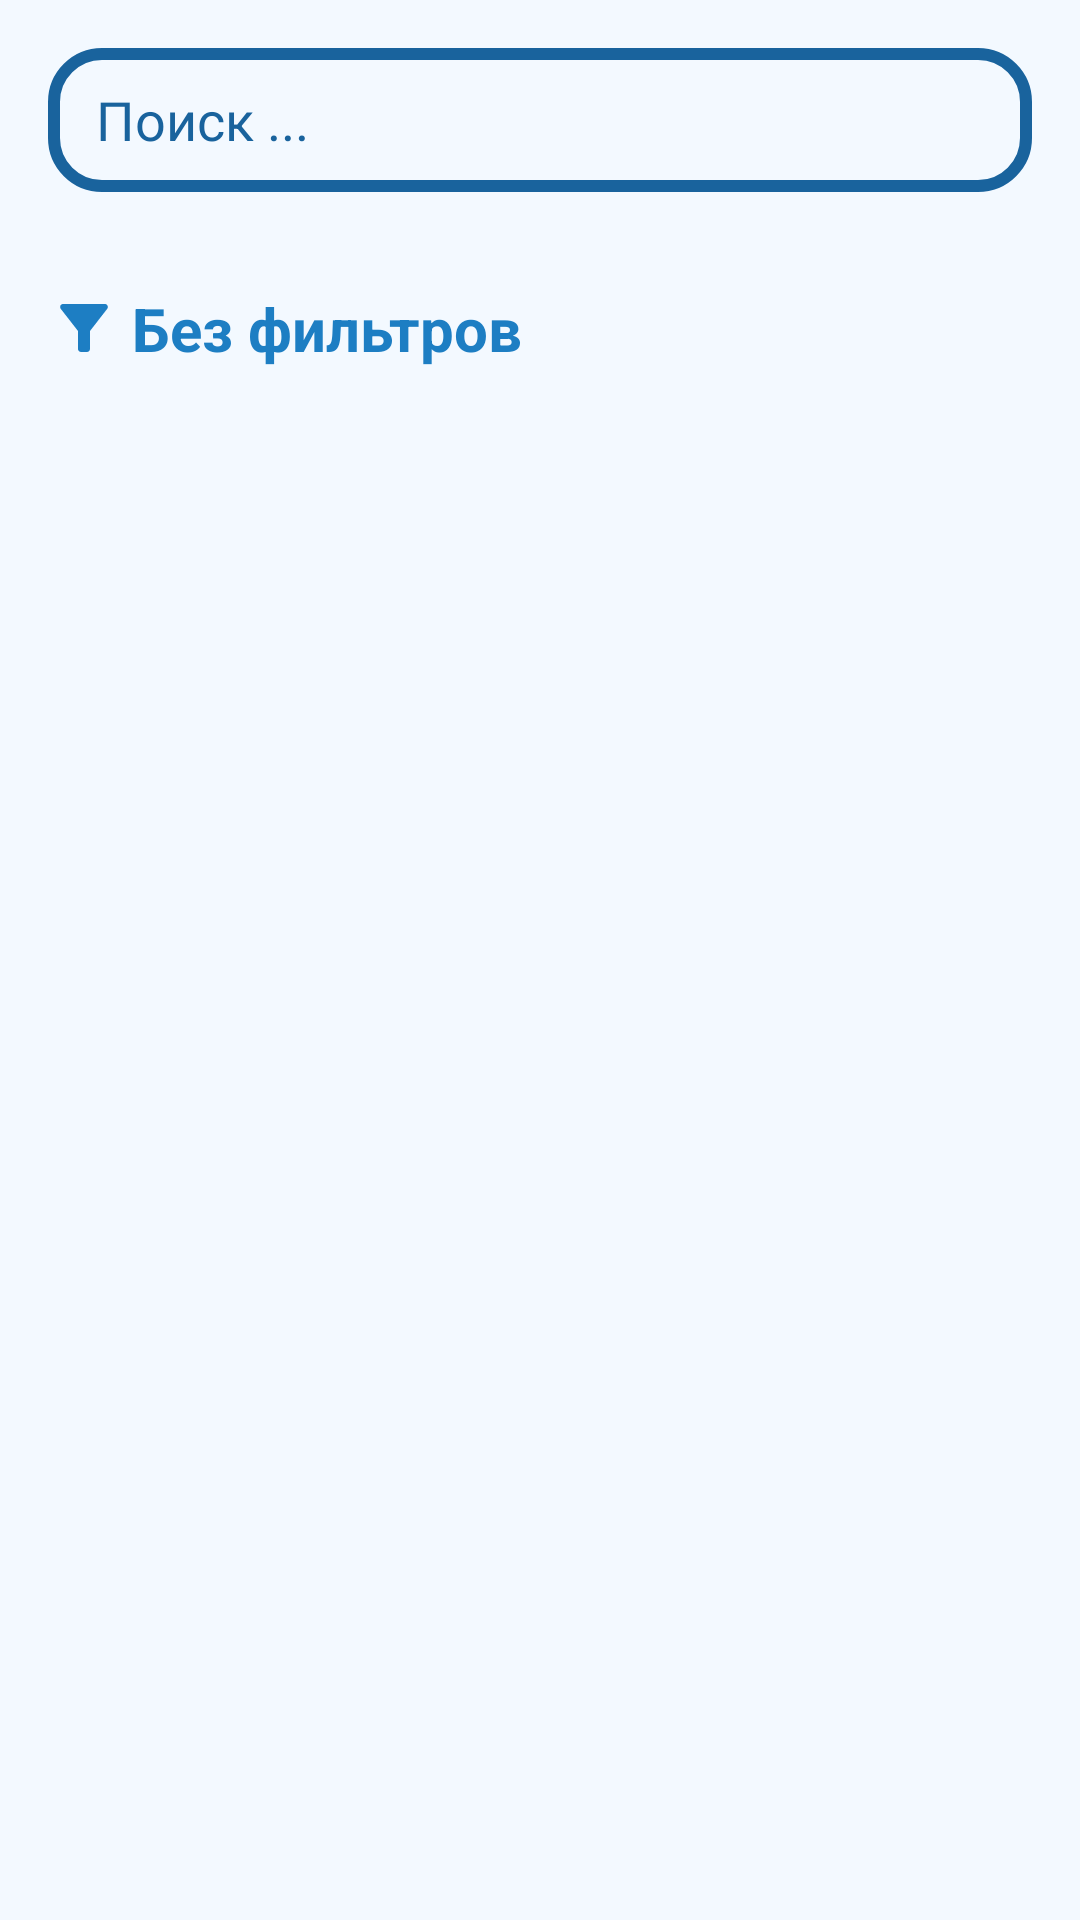

Icons on this 1080*1920 Android screen, each with its box as region(x1, y1, x2, y2):
filter: region(60, 304, 108, 352)
